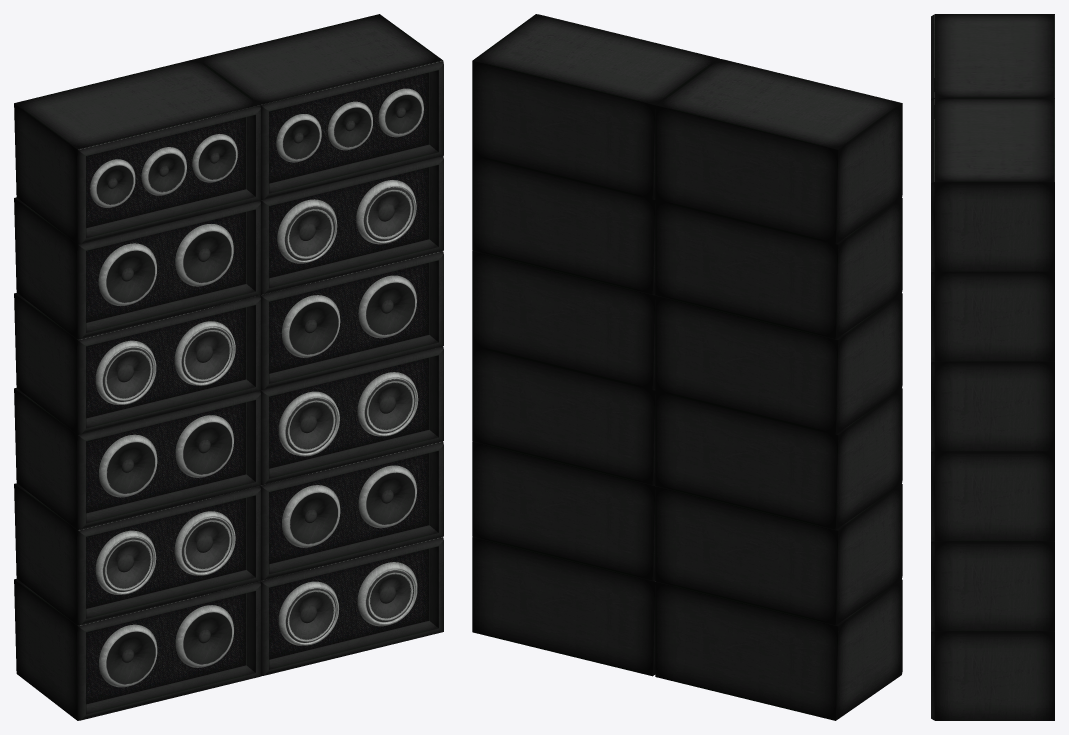
File: DoofLargeSpeaker.obj
The picture shows the model from 3 angles, left to right: view 1: azimuth 30°, elevation 25°; view 2: azimuth 150°, elevation 25°; view 3: azimuth 270°, elevation 25°; orthographic projection. The views are drawn at different scales.
Visible parts, largest first — view 1: Object_8, Object_7; view 2: Object_8; view 3: Object_8.
Part boxes in pixels (<box>): Object_8: <box>14,14,443,720</box>; Object_7: <box>90,88,423,687</box>; Object_8: <box>472,14,902,720</box>; Object_8: <box>931,14,1054,720</box>.
Bounding box in the file's own units: 4.73 × 7.06 × 1.47.
